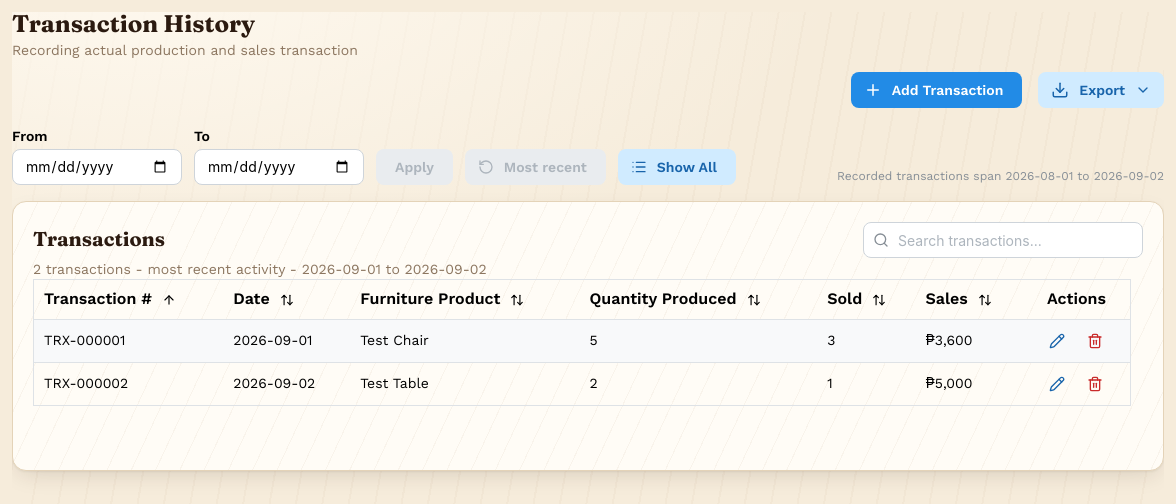
TransactionHistoryPage date range filter › keeps search working inside the returned window
In the field with placeholder "Search transactions...": [1003, 240] box top-left (863, 222), bottom-right (1143, 258), type "Chair"
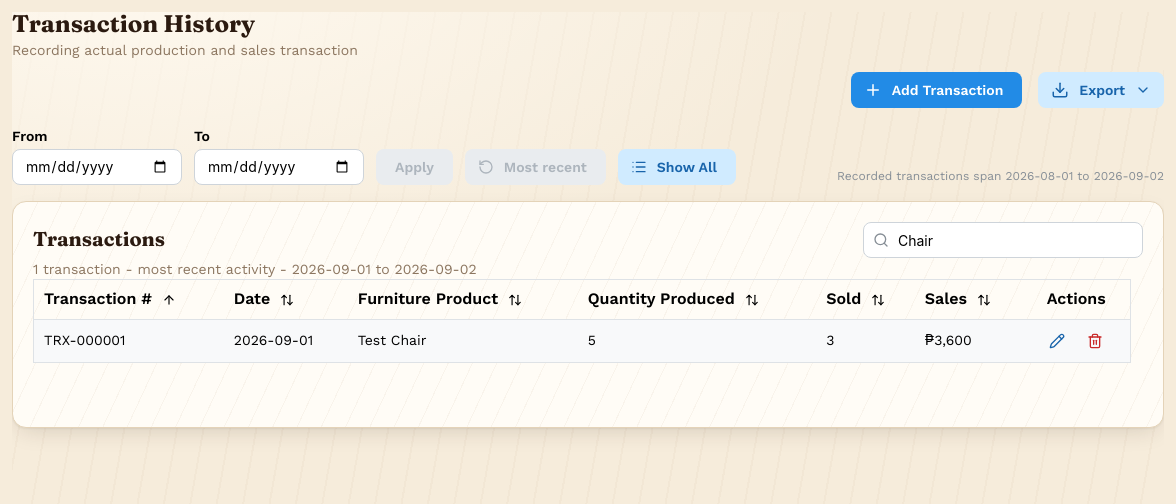
Expected: the text "Test Chair" is shown, top-left (348, 320), bottom-right (578, 363)
Result: the text "Test Table" is gone
